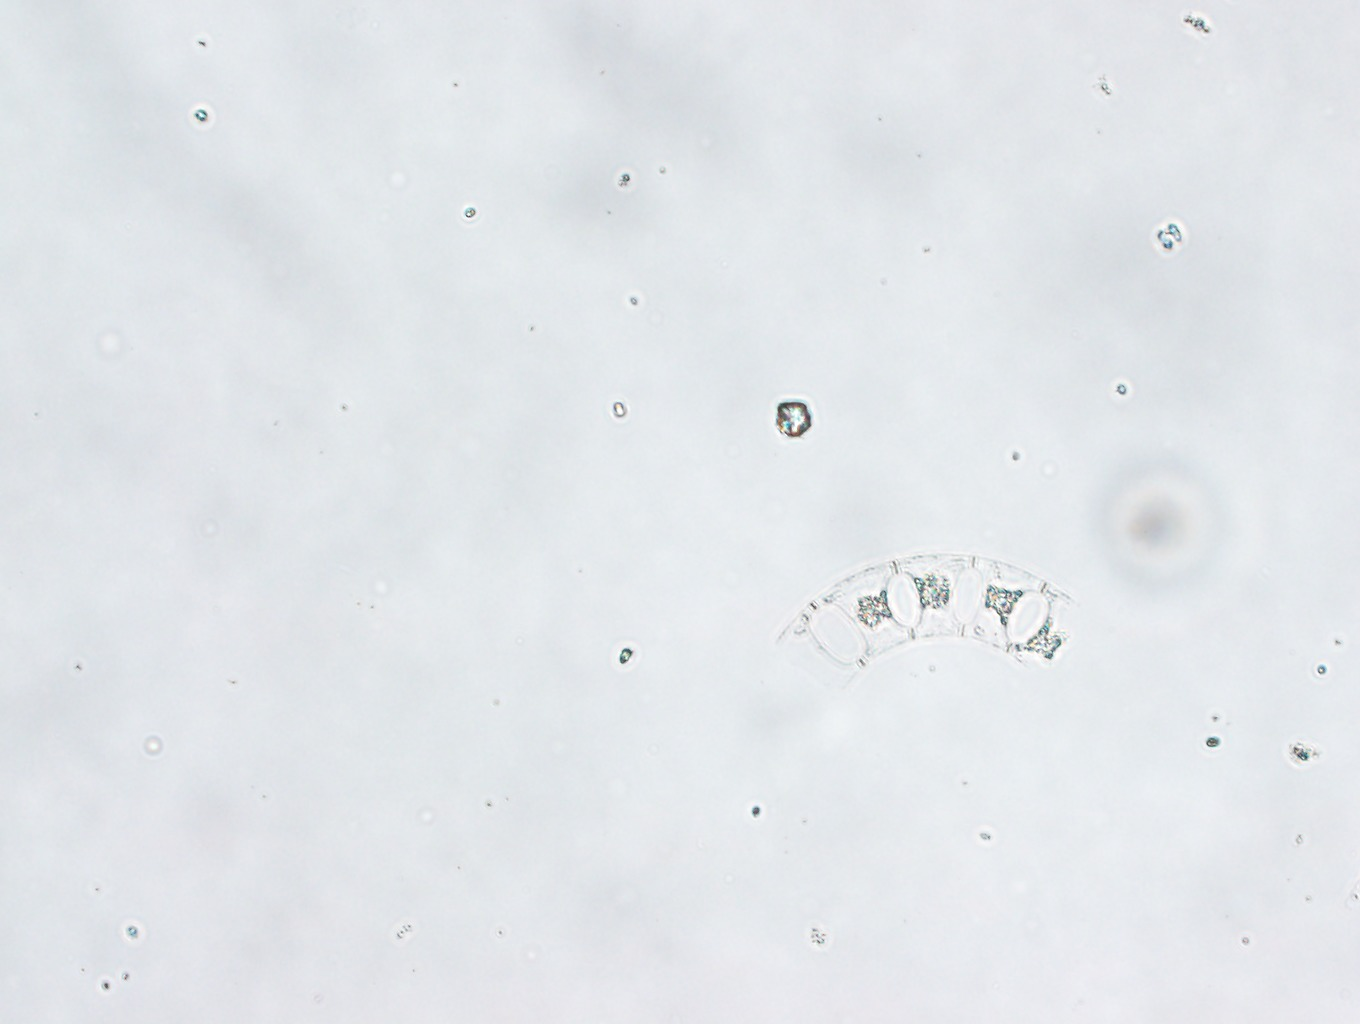eucampia: (774, 552, 1087, 691)
